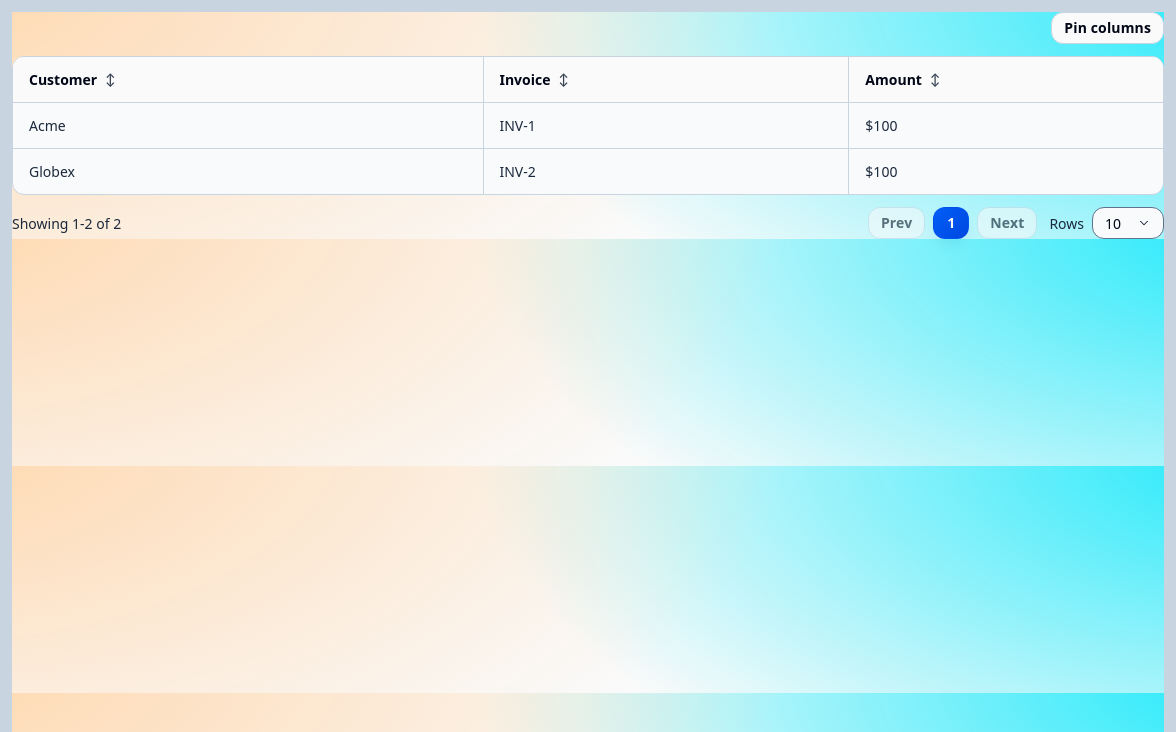
Test: DataTableV2 › preserves mixed pin order while sorting pinned column
Click the button "Amount ↕".
click(903, 80)  # box 865,69 -> 940,90
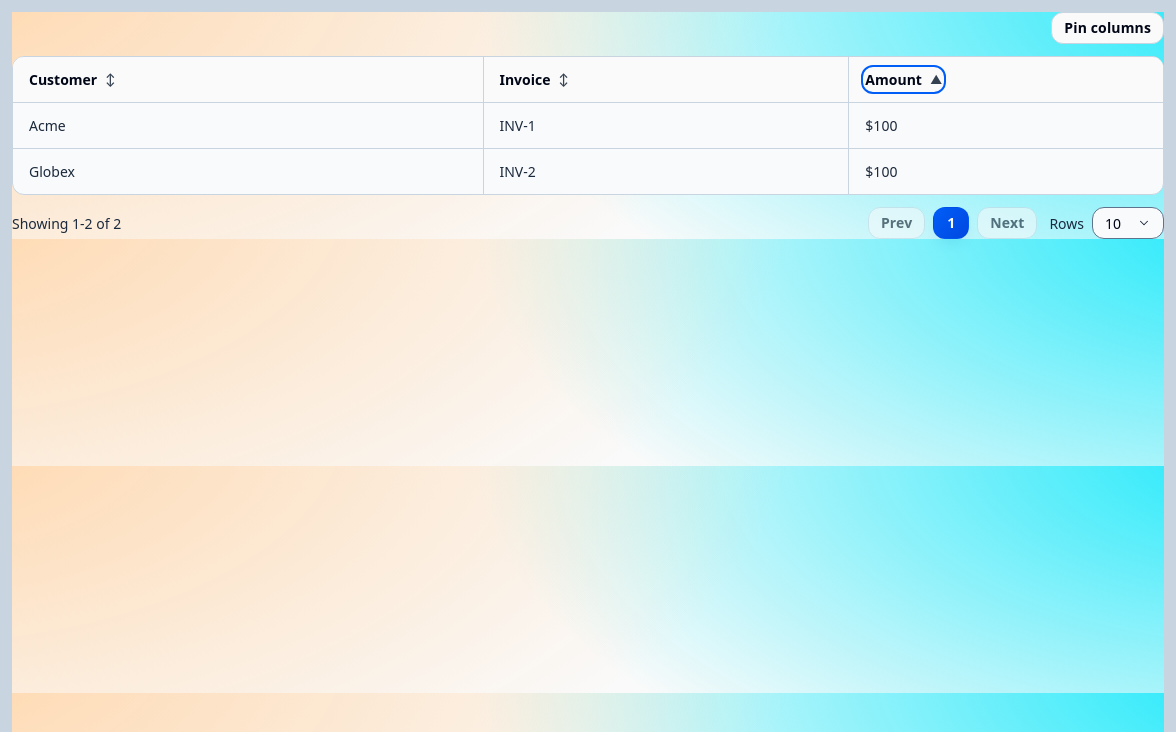
Check: the column heading "Amount" has attribute aria-sort="ascending", box 849,57 -> 1163,103
